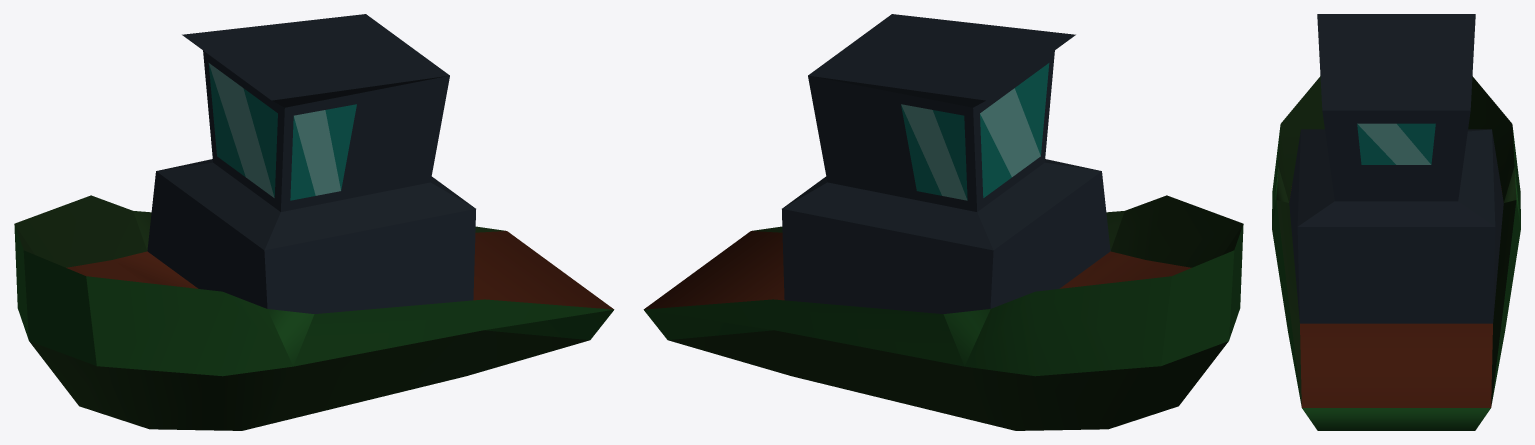
File: Boatslow.FBX
The picture shows the model from 3 angles, left to right: view 1: azimuth 30°, elevation 25°; view 2: azimuth 150°, elevation 25°; view 3: azimuth 270°, elevation 25°; orthographic projection. The views are drawn at different scales.
Parts seen in each view (by area): view 1: Box004; view 2: Box004; view 3: Box004.
Part boxes in pixels (x1,y1,x2,y2): Box004: [14, 14, 614, 430]; Box004: [643, 14, 1243, 430]; Box004: [1272, 14, 1520, 430].
Bounding box in the file's own units: 89.58 × 50.62 × 40.81.
